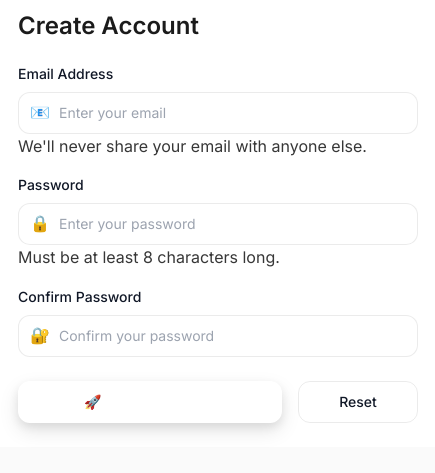
Test: Form Integration › Form Validation › shows error for short password
Type "123" into the password field labelled "Password" at (218, 224), box x1=18 y1=203 x2=418 y2=245
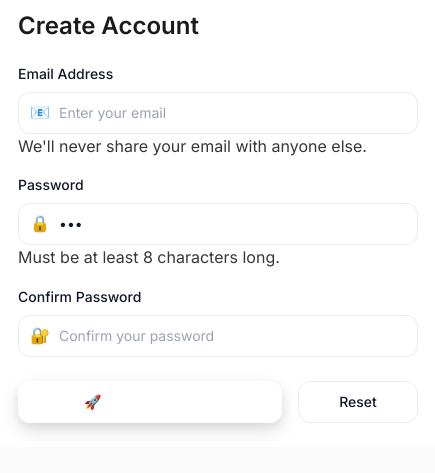
Click the button "🚀 Create Account" at (150, 402), box x1=18 y1=381 x2=282 y2=423
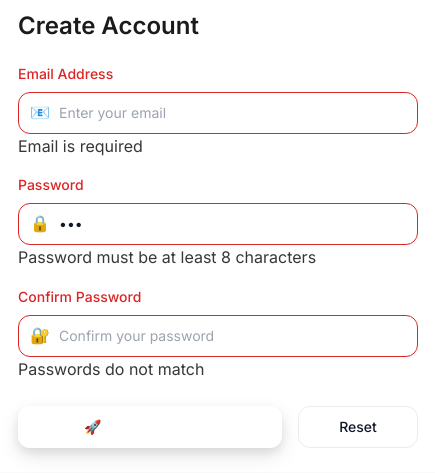
Expected: the text "Password must be at least 8 characters" is shown, x1=18 y1=247 x2=316 y2=267
